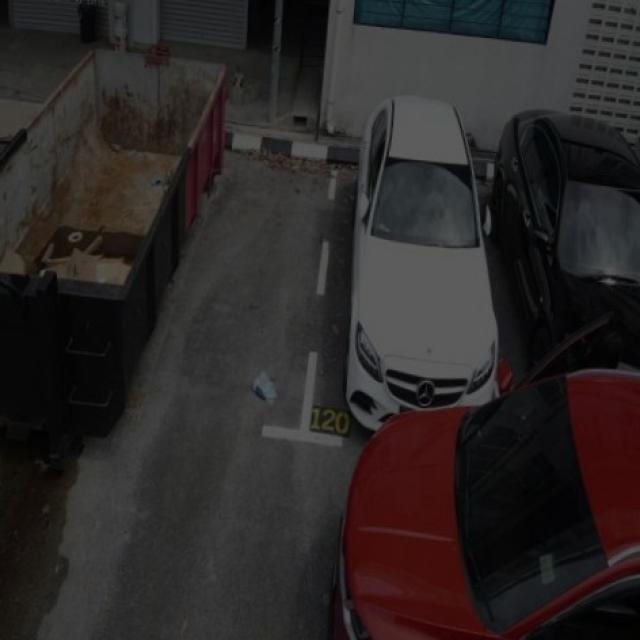Legalparking: (346, 99, 639, 428)
illegalparking: (332, 316, 639, 639)
